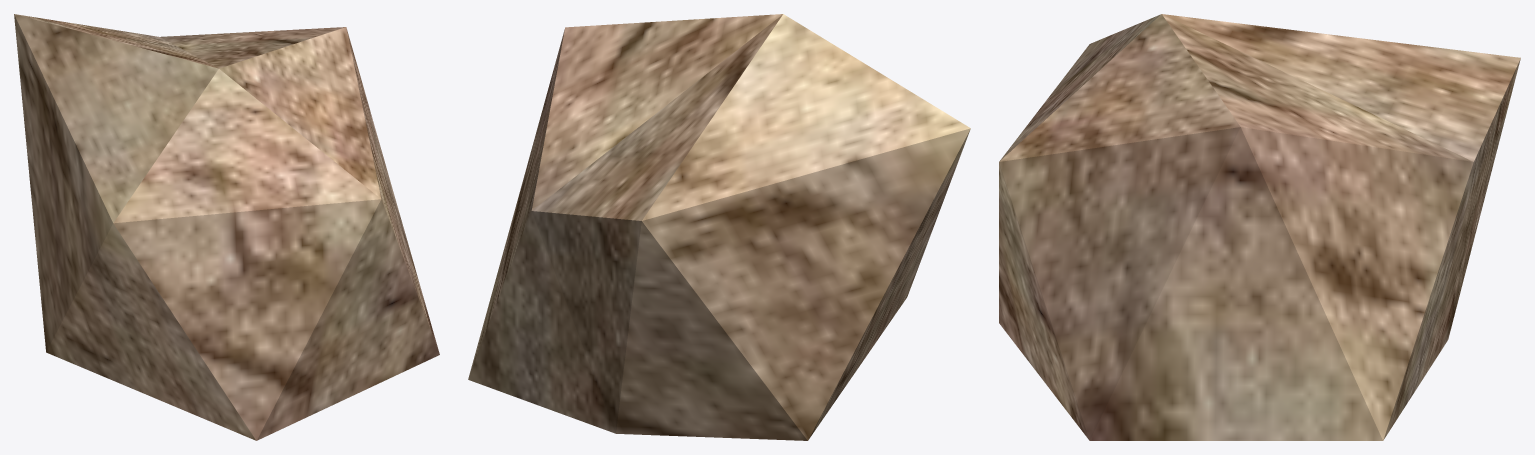
The model's file is rocabarata.fbx.
The picture shows the model from 3 angles, left to right: view 1: azimuth 30°, elevation 25°; view 2: azimuth 150°, elevation 25°; view 3: azimuth 270°, elevation 25°; orthographic projection. The views are drawn at different scales.
Parts seen in each view (by area): view 1: Icosphere; view 2: Icosphere; view 3: Icosphere.
Part boxes in pixels (left/top/right/bottom): Icosphere: left=14, top=14, right=439, bottom=440; Icosphere: left=468, top=14, right=970, bottom=440; Icosphere: left=999, top=14, right=1520, bottom=440.
Bounding box in the file's own units: 145 × 152 × 187.
